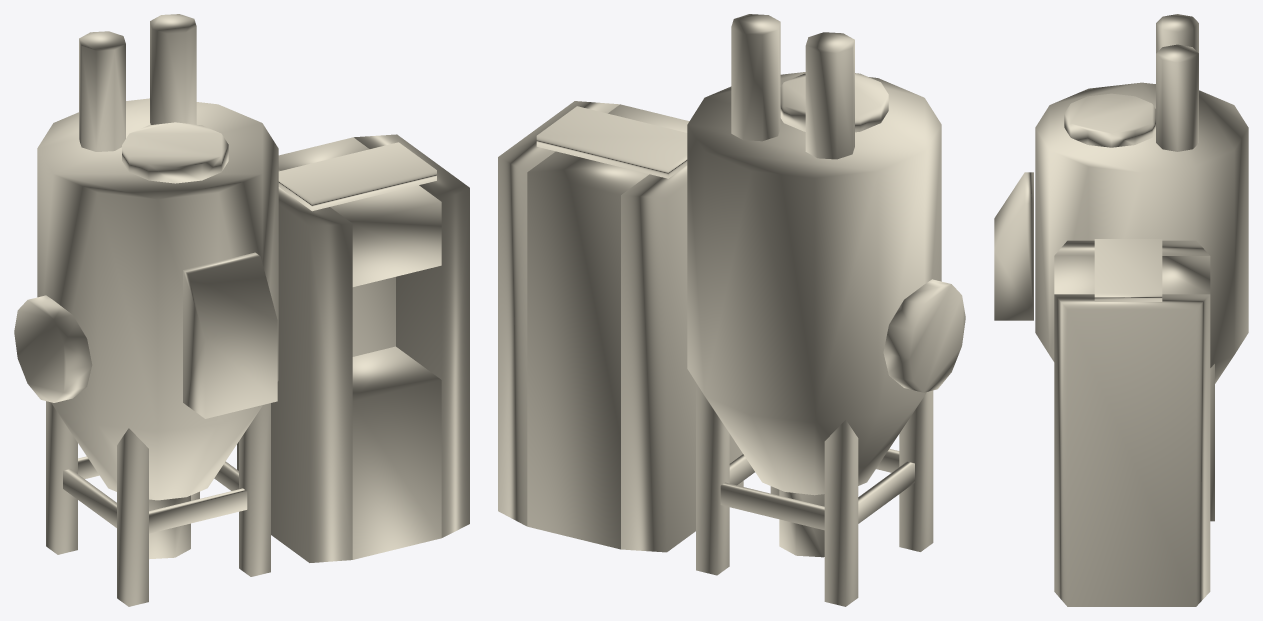
The model's file is extractor_physic.fbx.
3 renders of one model, left to right at view 1: azimuth 30°, elevation 25°; view 2: azimuth 150°, elevation 25°; view 3: azimuth 270°, elevation 25°, orthographic. The views are drawn at different scales.
Parts seen in each view (by area): view 1: extractor_physics; view 2: extractor_physics; view 3: extractor_physics.
Part boxes in pixels (x1,y1,x2,y2): extractor_physics: (14,14,469,606); extractor_physics: (498,14,965,606); extractor_physics: (994,14,1248,606).
Bounding box in the file's own units: 6898 × 8720 × 4443.
